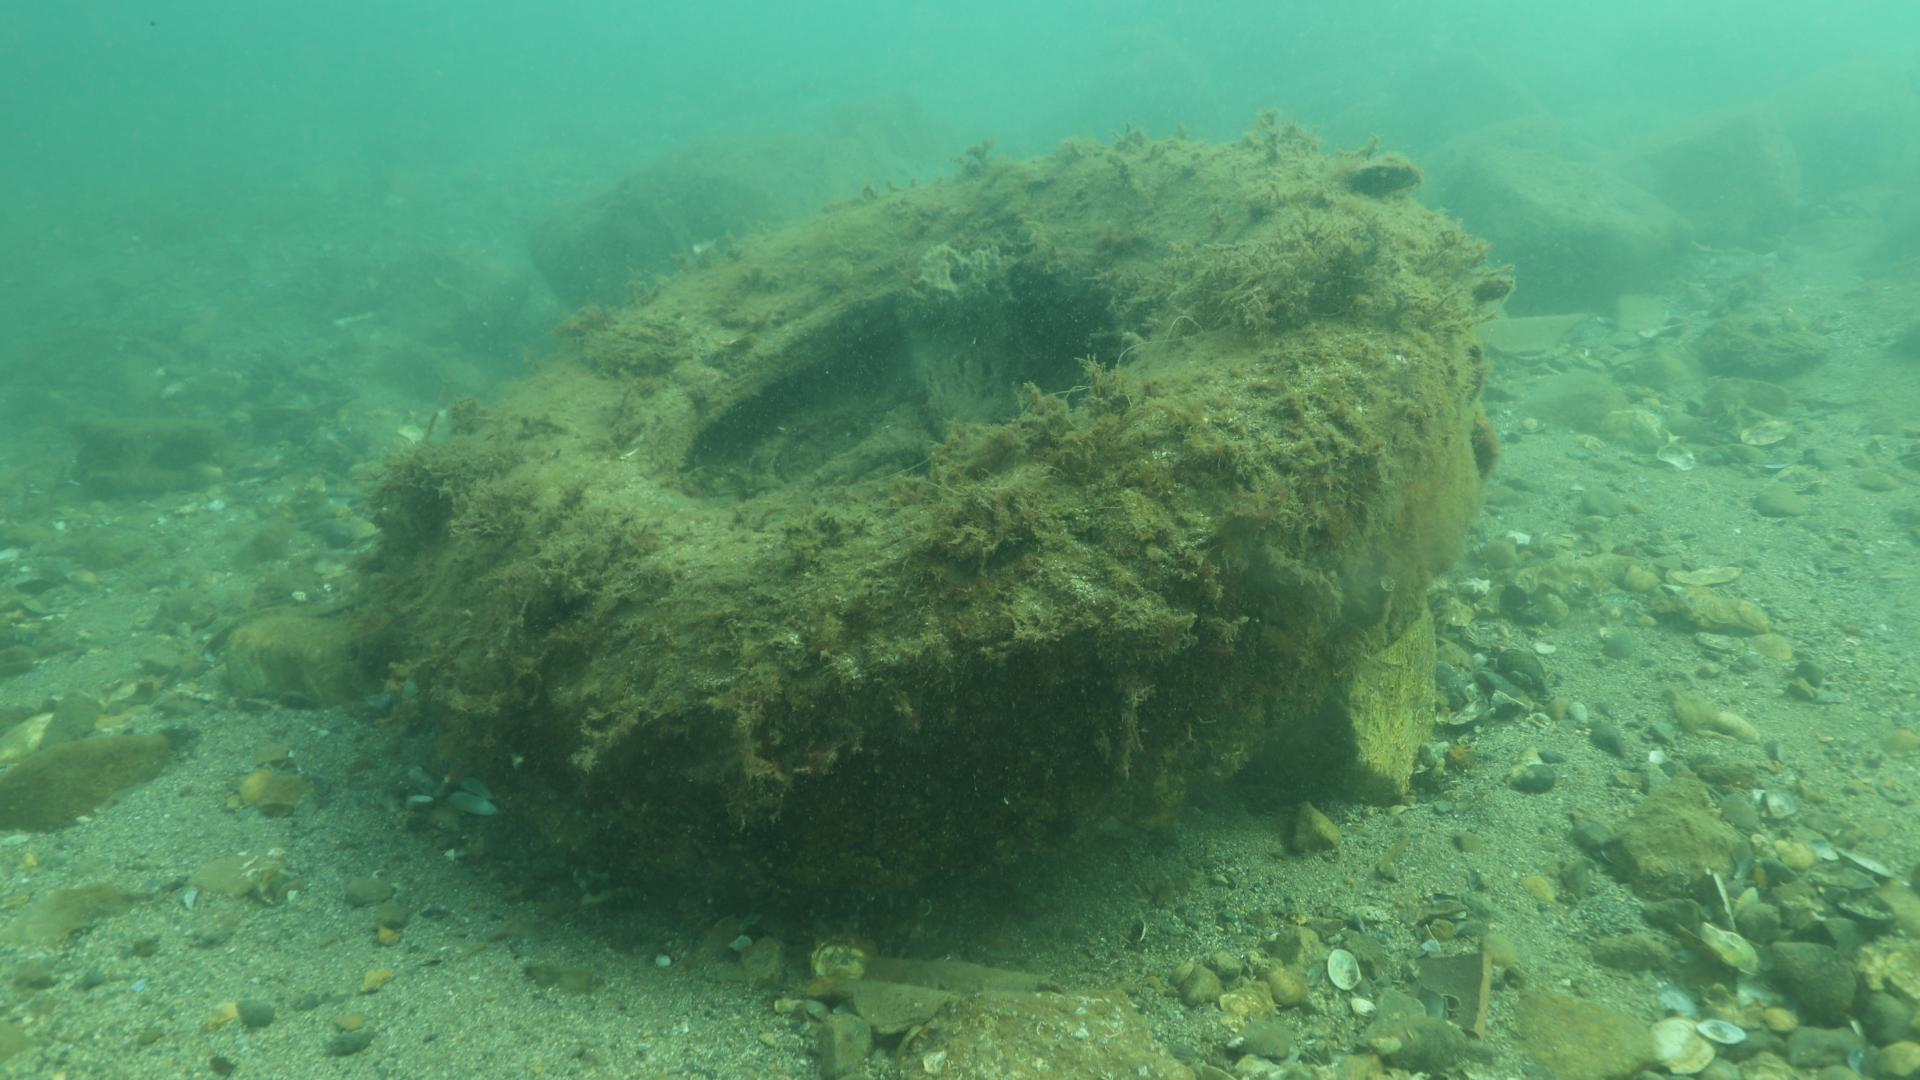tire: (384, 142, 1486, 885)
